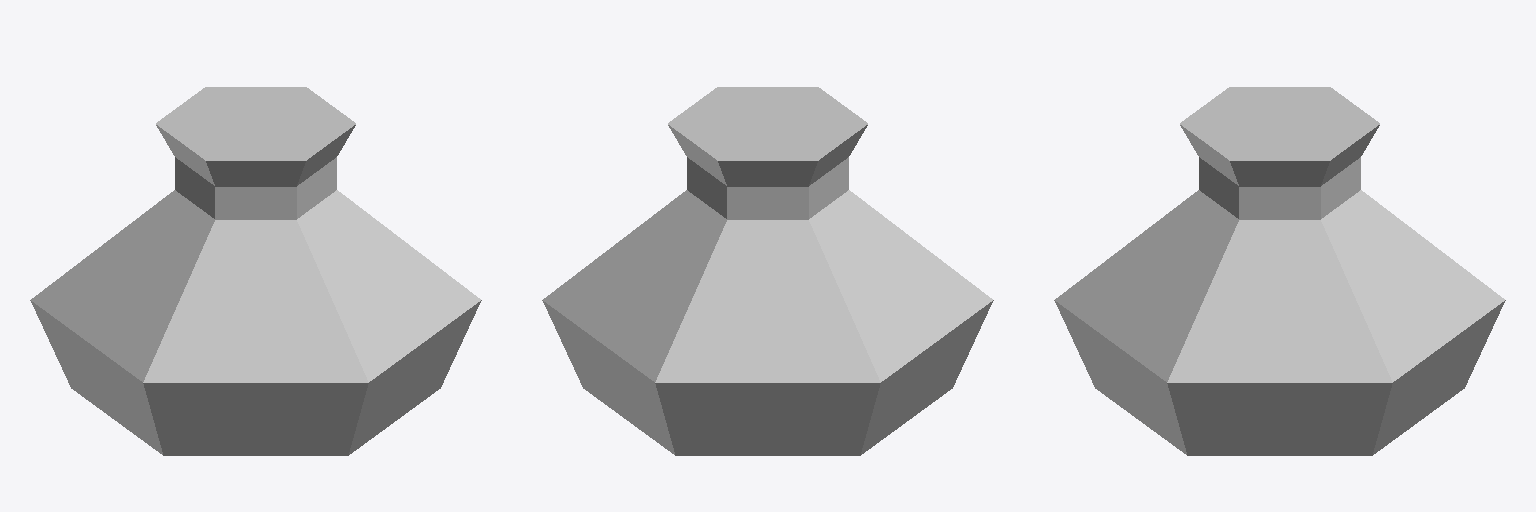
File: dim-sum.obj
3 views of the same model, side by side, from view 1: azimuth 30°, elevation 25°; view 2: azimuth 150°, elevation 25°; view 3: azimuth 270°, elevation 25° (orthographic).
Parts seen in each view (by area): view 1: dim-sum; view 2: dim-sum; view 3: dim-sum.
Boxes of the visible parts, <box> form: dim-sum: <box>30,87,481,455</box>; dim-sum: <box>542,87,993,455</box>; dim-sum: <box>1054,87,1505,455</box>.
Size of the model in its own units: 0.1607 by 0.12 by 0.1856.